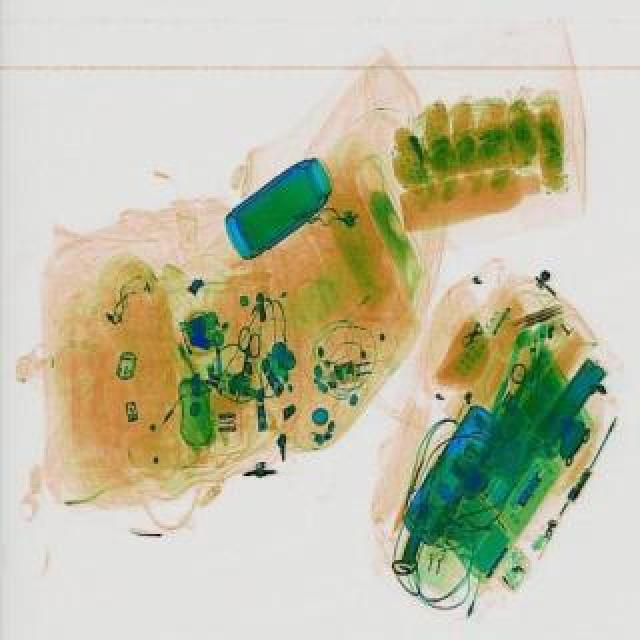pliers: (220, 324, 262, 404)
